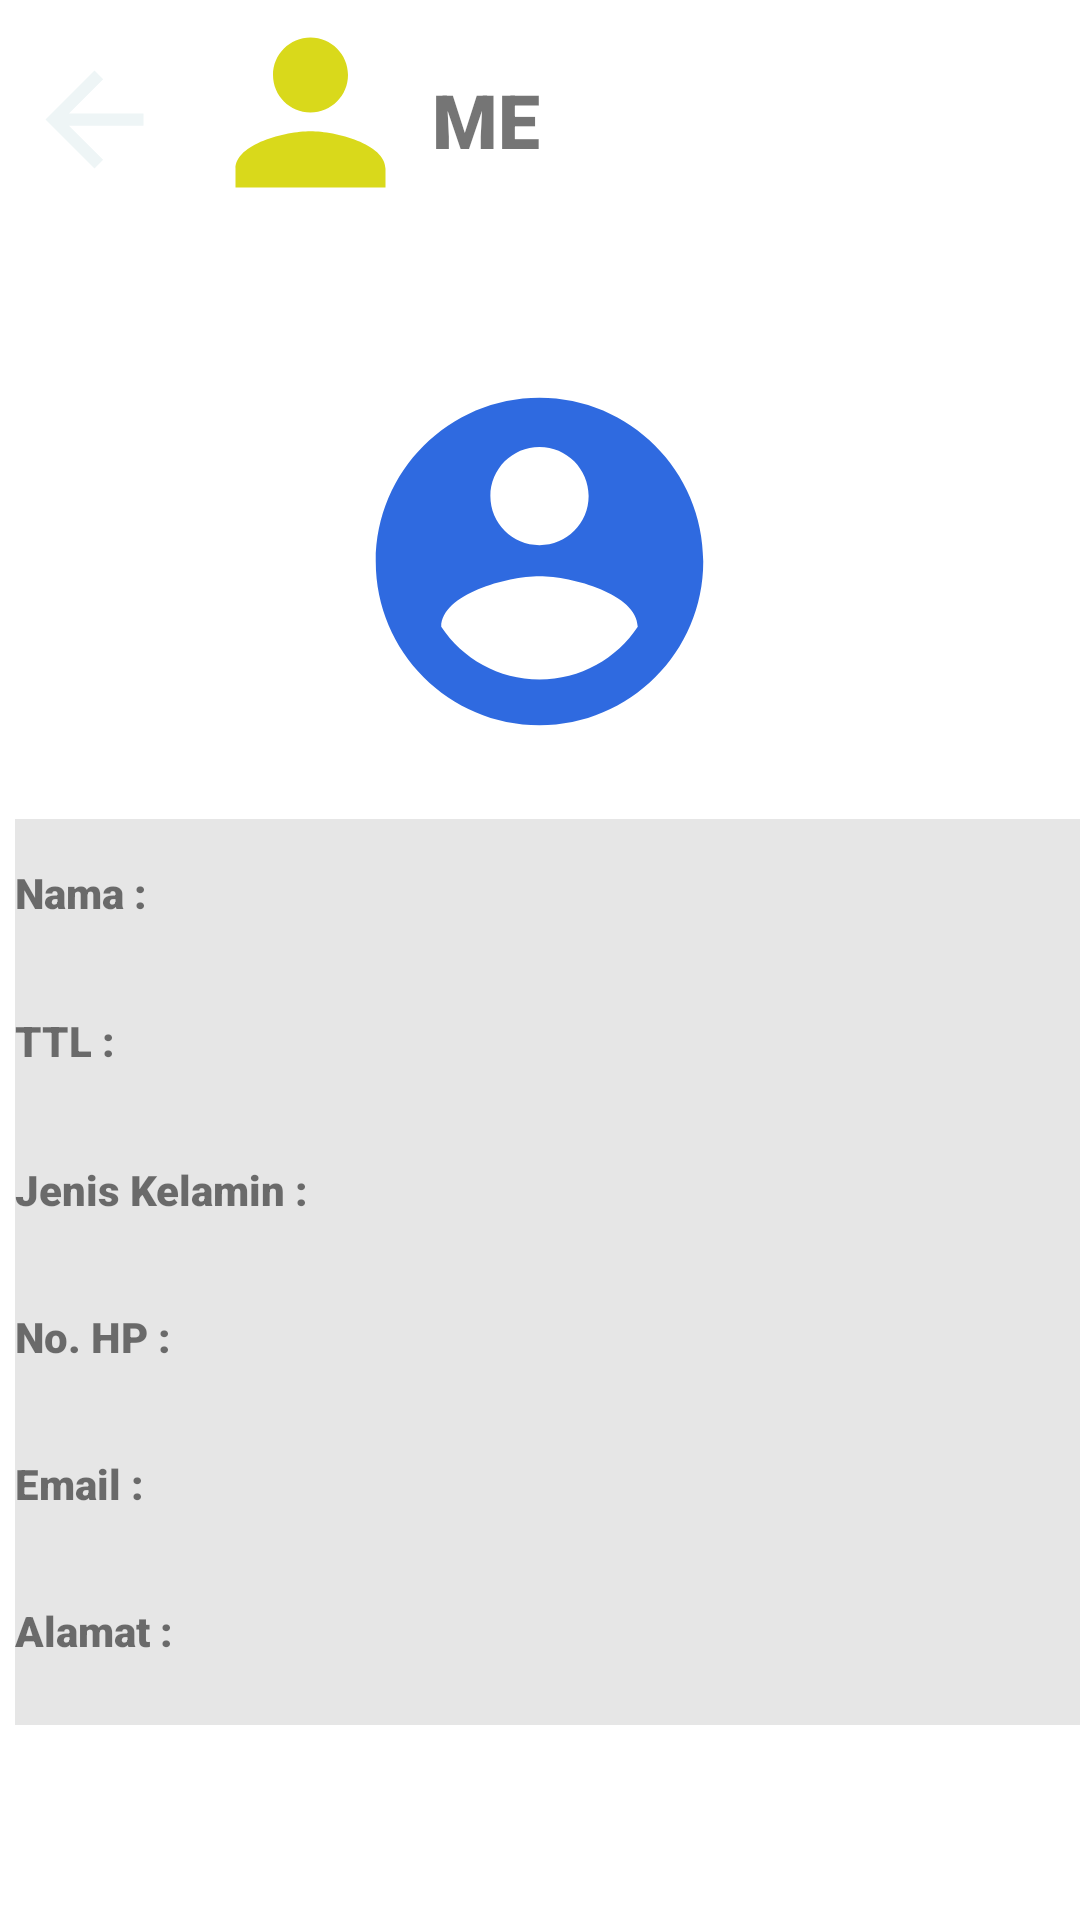

Point at icon controls on the screen. Image size 1080 x 1920, points as (x,y).
me kuning: (310,112)
photo: (539,561)
